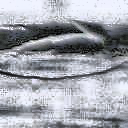crackTip: (1, 21, 128, 79)
